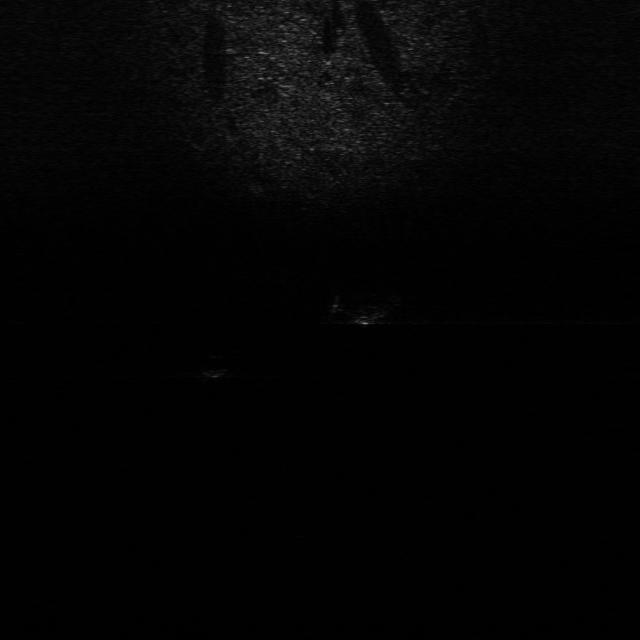ball: (198, 351, 233, 379)
human body: (322, 294, 399, 330)
